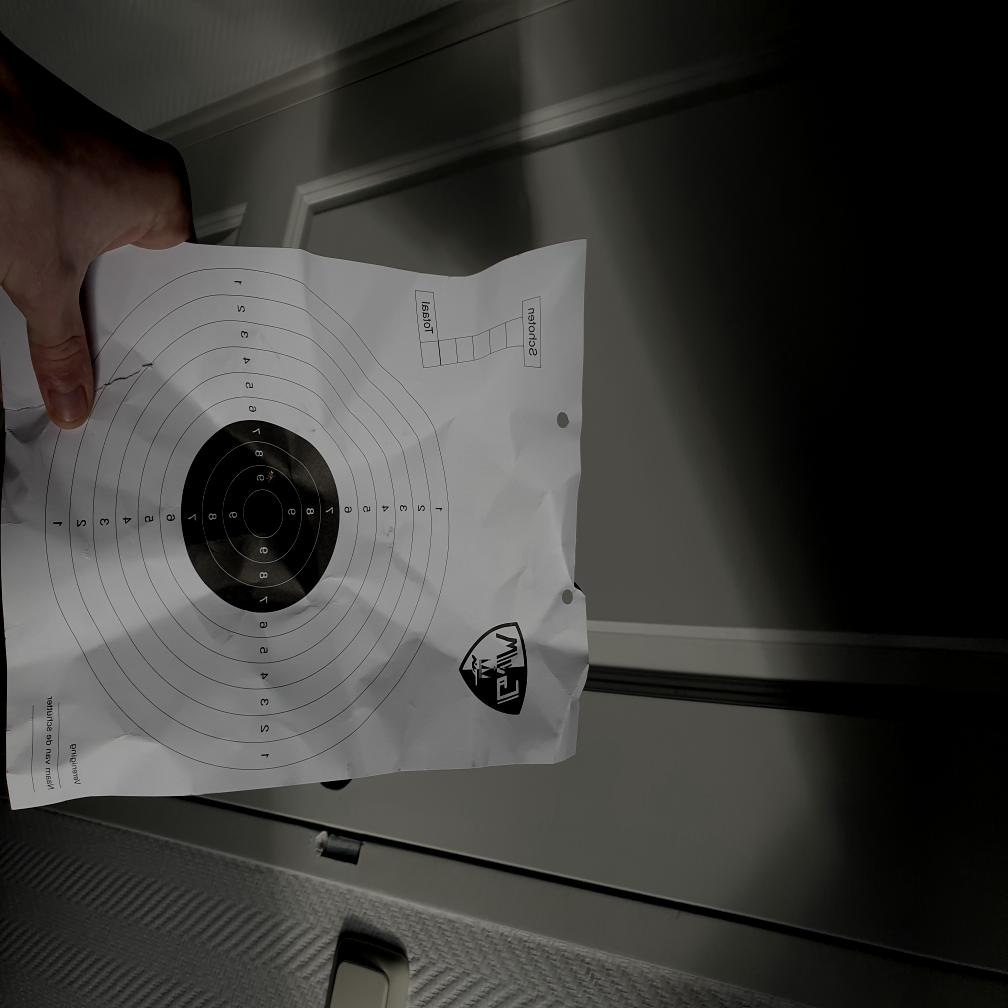9: (265, 469, 278, 484)
Target: (45, 262, 451, 770)
black_contour: (180, 417, 340, 613)
